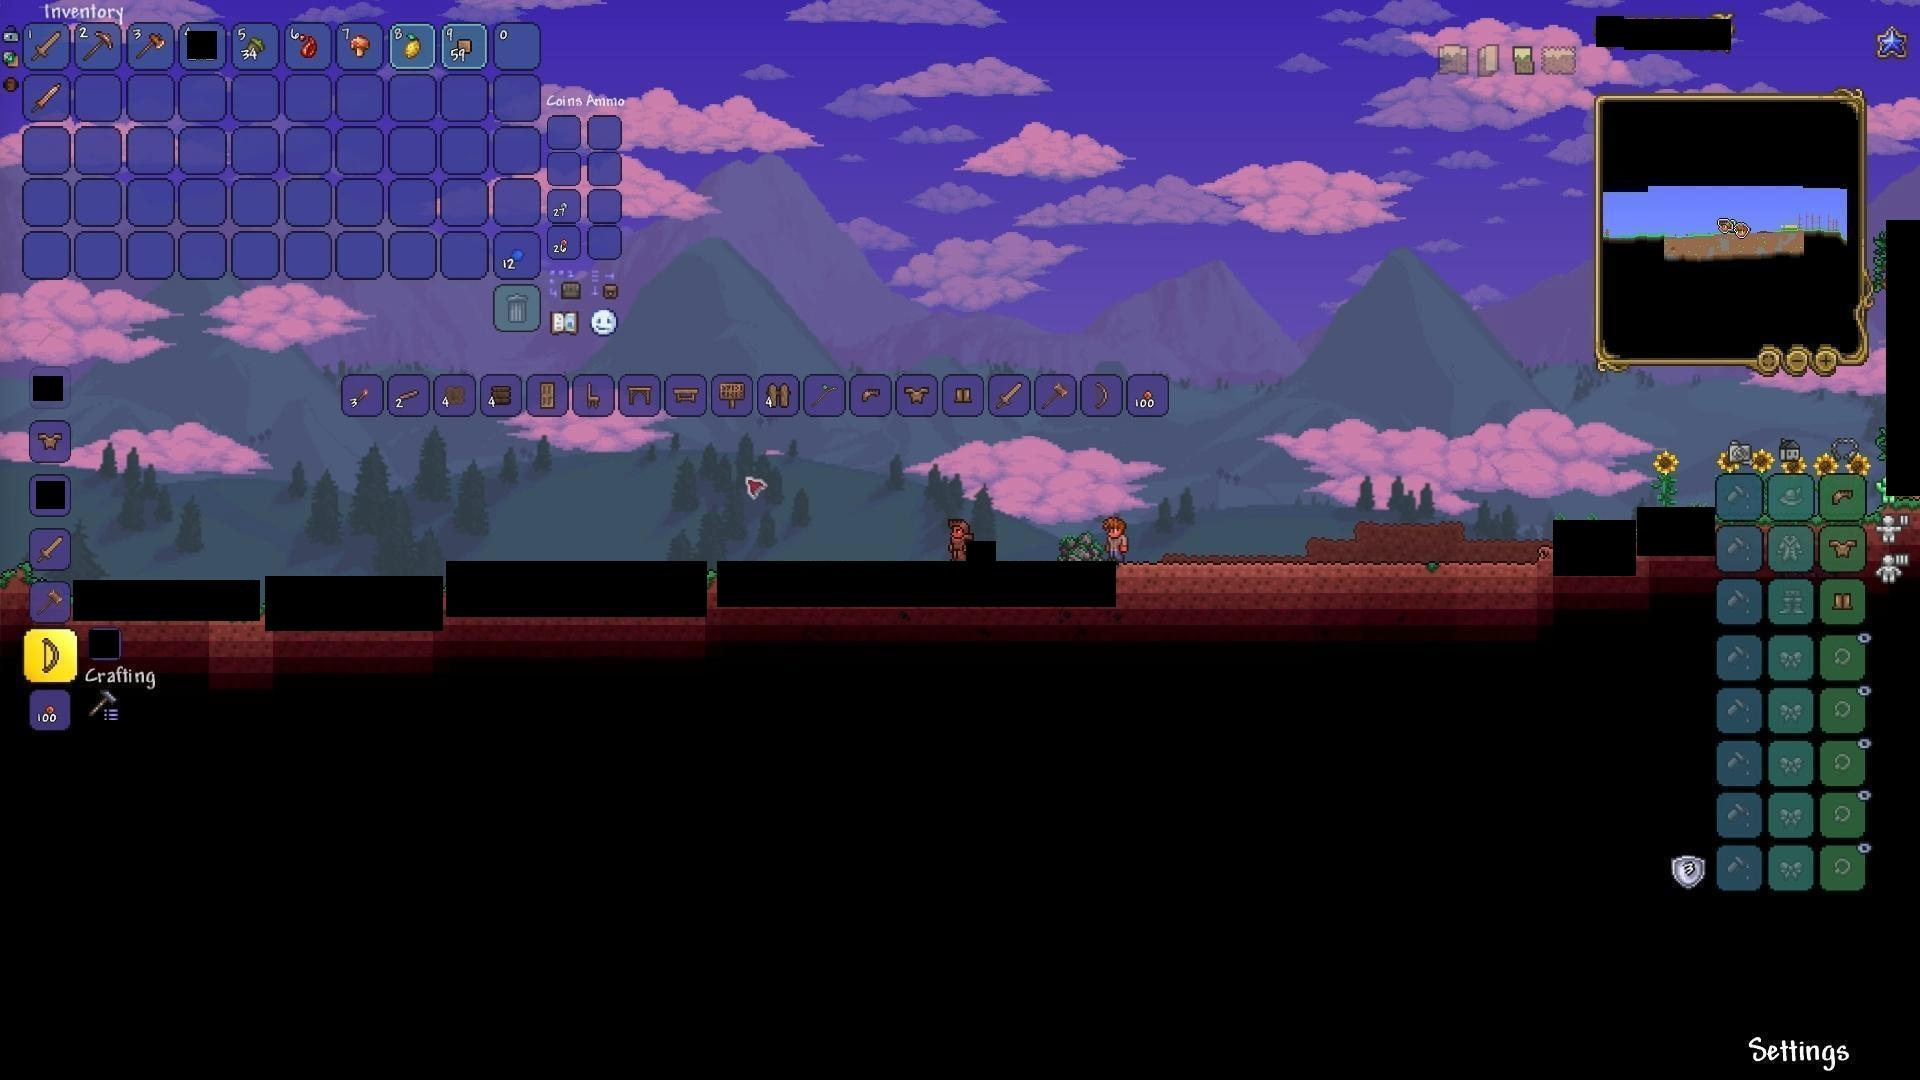breastplate: (36, 431, 65, 452), (1830, 537, 1859, 558), (903, 384, 932, 404)
dirt: (0, 560, 32, 605)
helmet: (1829, 483, 1859, 510), (856, 381, 885, 407)
legs: (1830, 587, 1855, 617), (952, 381, 975, 407)
workbench: (670, 382, 704, 407)
